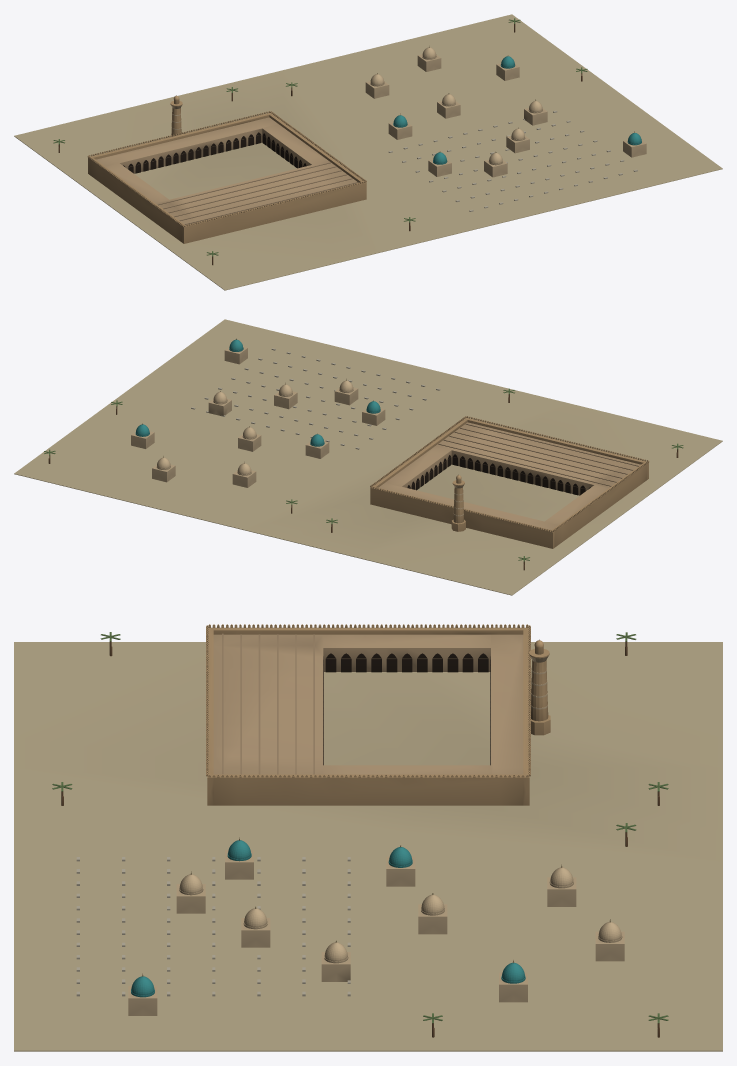
File: rusafa-1200.glb
3 renders of one model, top to bottom at view 1: azimuth 30°, elevation 25°; view 2: azimuth 150°, elevation 25°; view 3: azimuth 270°, elevation 25°, orthographic. The views are drawn at different scales.
Parts seen in each view (by area): view 1: p0_mosque, p1_stage1, p2_tombs of the caliphs; view 2: p0_mosque, p1_stage1, p2_tombs of the caliphs; view 3: p0_mosque, p1_stage1, p2_tombs of the caliphs, p3_palms.
Boxes of the visible parts, box(x1,y1,x2,y2) form: p0_mosque: box(14, 14, 722, 290); p1_stage1: box(96, 95, 358, 224); p2_tombs of the caliphs: box(365, 46, 646, 211); p0_mosque: box(14, 319, 722, 595); p1_stage1: box(378, 422, 640, 531); p2_tombs of the caliphs: box(131, 338, 440, 487); p0_mosque: box(14, 624, 722, 1051); p1_stage1: box(213, 633, 550, 774); p2_tombs of the caliphs: box(76, 837, 624, 1015); p3_palms: box(52, 632, 668, 1028).
Size of the model in its own units: 300 by 31.77 by 220.
